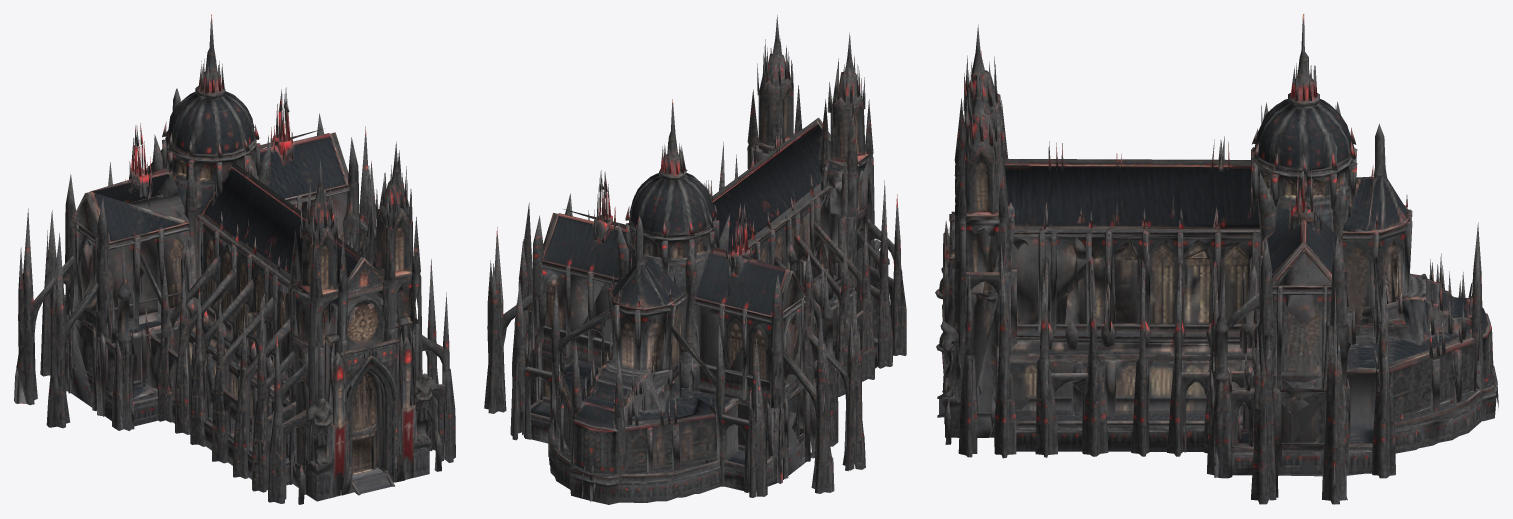
Rendered from Meshy_AI_Cathedral_Exterior_Lo_1030004443_texture.glb.
The picture shows the model from 3 angles, left to right: view 1: azimuth 30°, elevation 25°; view 2: azimuth 150°, elevation 25°; view 3: azimuth 270°, elevation 25°; orthographic projection. The views are drawn at different scales.
Size of the model in its own units: 0.7866 by 0.7344 by 0.9521.
Materials: 1 (1 with a texture image).
